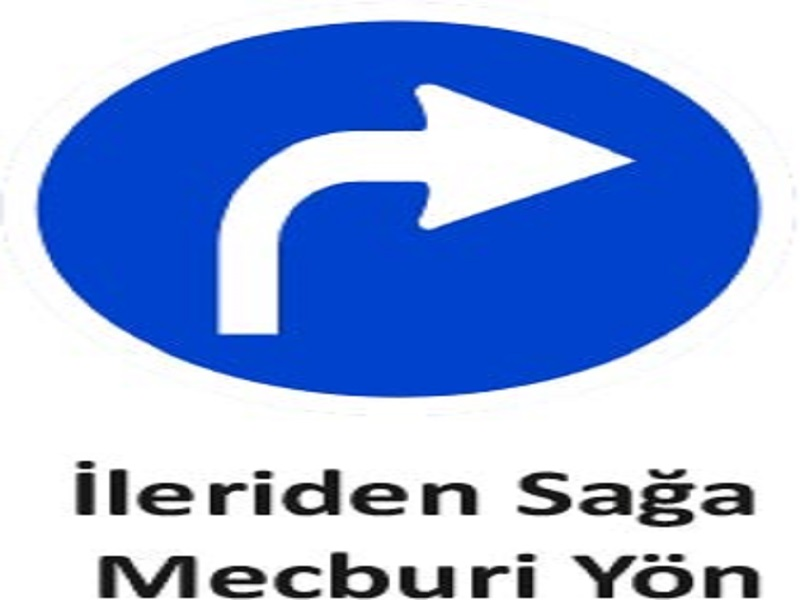sagaDon: (190, 70, 641, 364)
